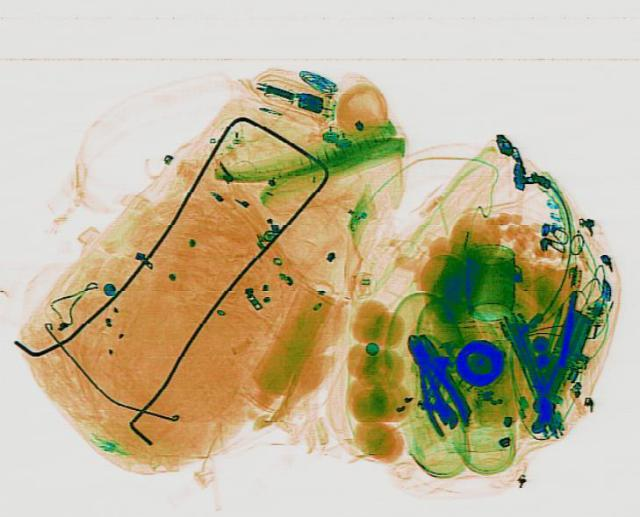Pliers: (388, 329, 476, 437)
